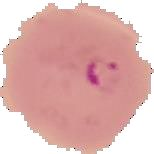parasitized: (82, 48, 130, 96)
